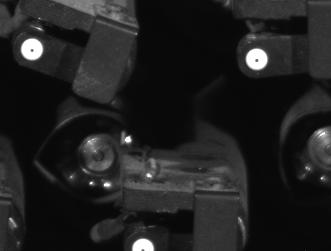fiber: (241, 43, 274, 77), (16, 35, 48, 66), (126, 233, 159, 251)
